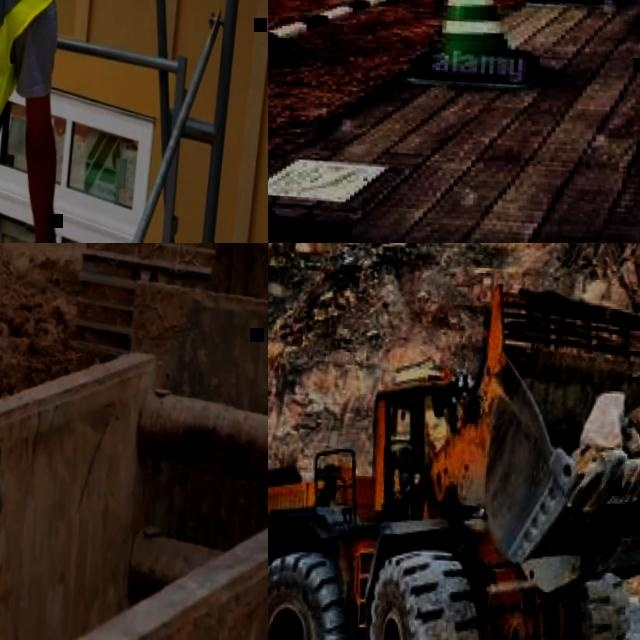Person: (0, 0, 110, 243)
Safety Cone: (268, 23, 388, 243), (406, 0, 544, 93)
machinery: (268, 252, 640, 640), (72, 243, 268, 374)
